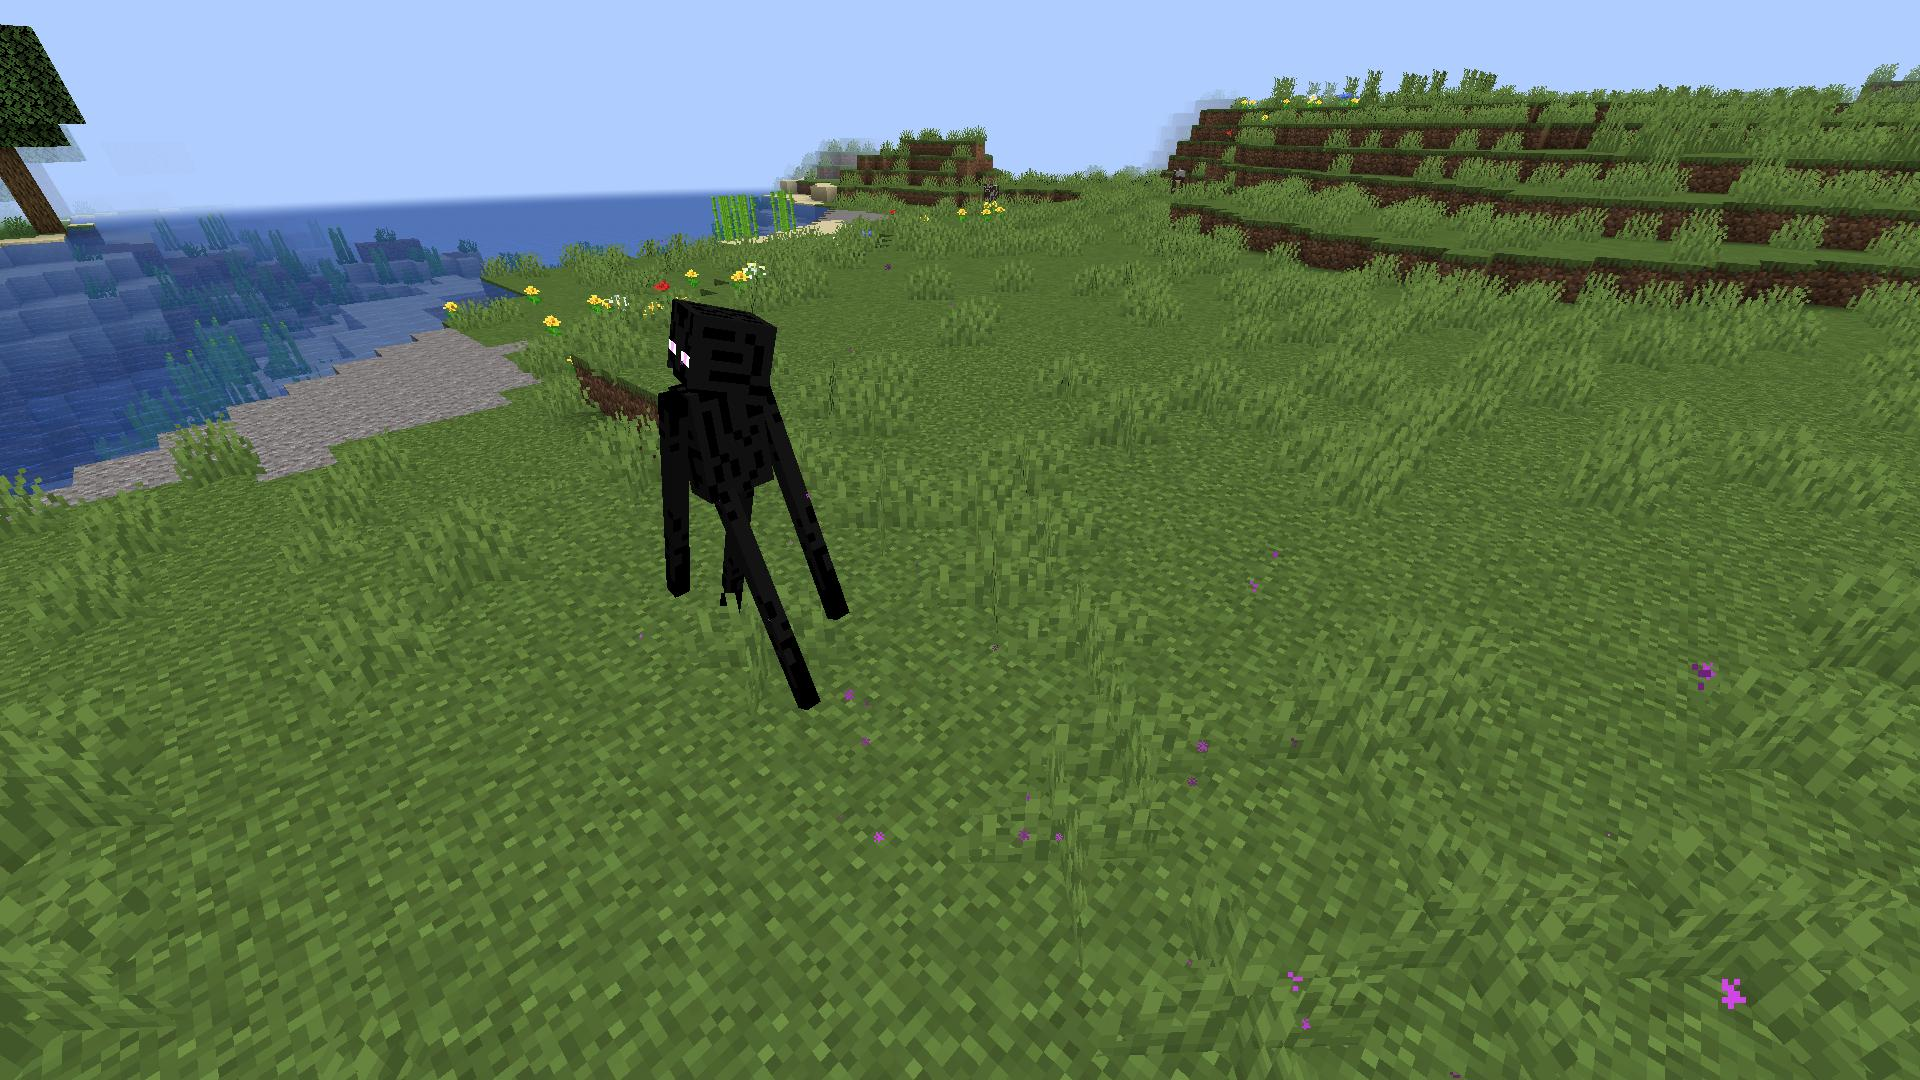enderman: (645, 297, 866, 717)
